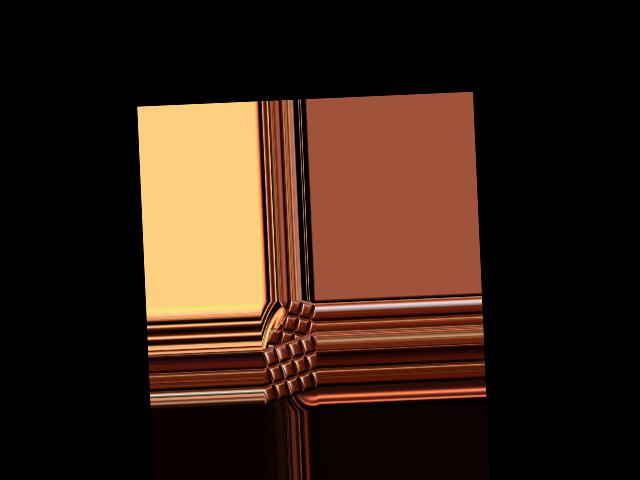chocolate: (262, 331, 320, 405)
